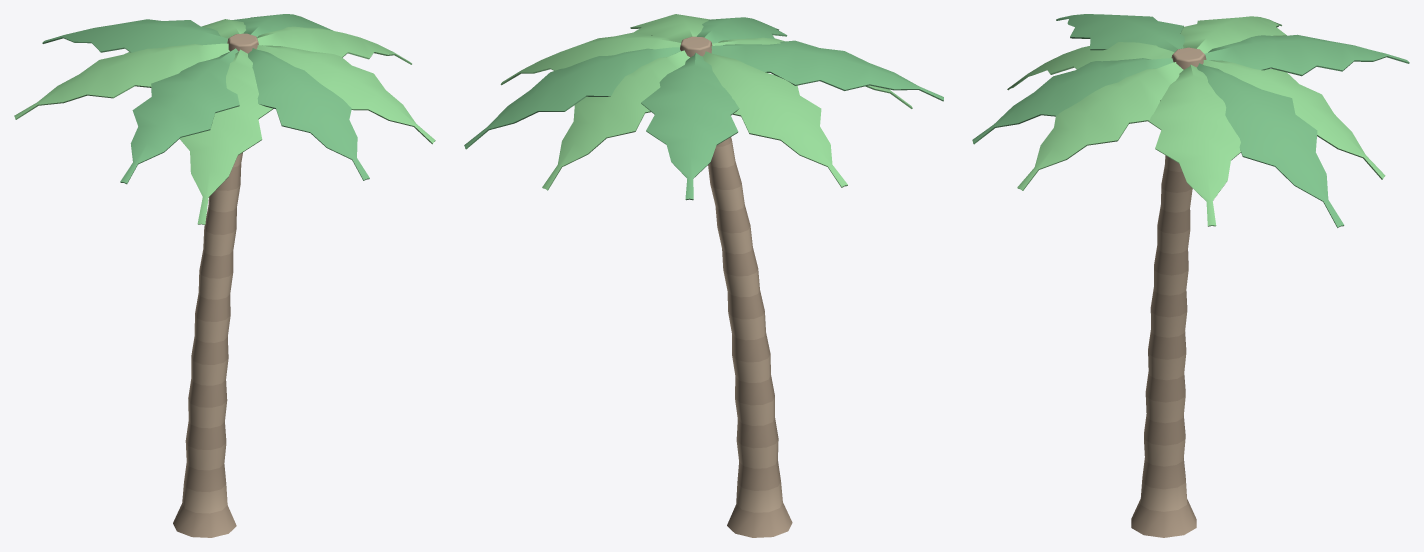
File: PalmTree.fbx
3 renders of one model, left to right at view 1: azimuth 30°, elevation 25°; view 2: azimuth 150°, elevation 25°; view 3: azimuth 270°, elevation 25°, orthographic. The views are drawn at different scales.
Visible parts, largest first — view 1: PalmTree; view 2: PalmTree; view 3: PalmTree.
Boxes of the visible parts, box(x1,y1,x2,y2) form: PalmTree: box(14, 14, 435, 537); PalmTree: box(464, 14, 943, 537); PalmTree: box(972, 14, 1409, 537).
Size of the model in its own units: 5.5 by 6.68 by 5.34.
